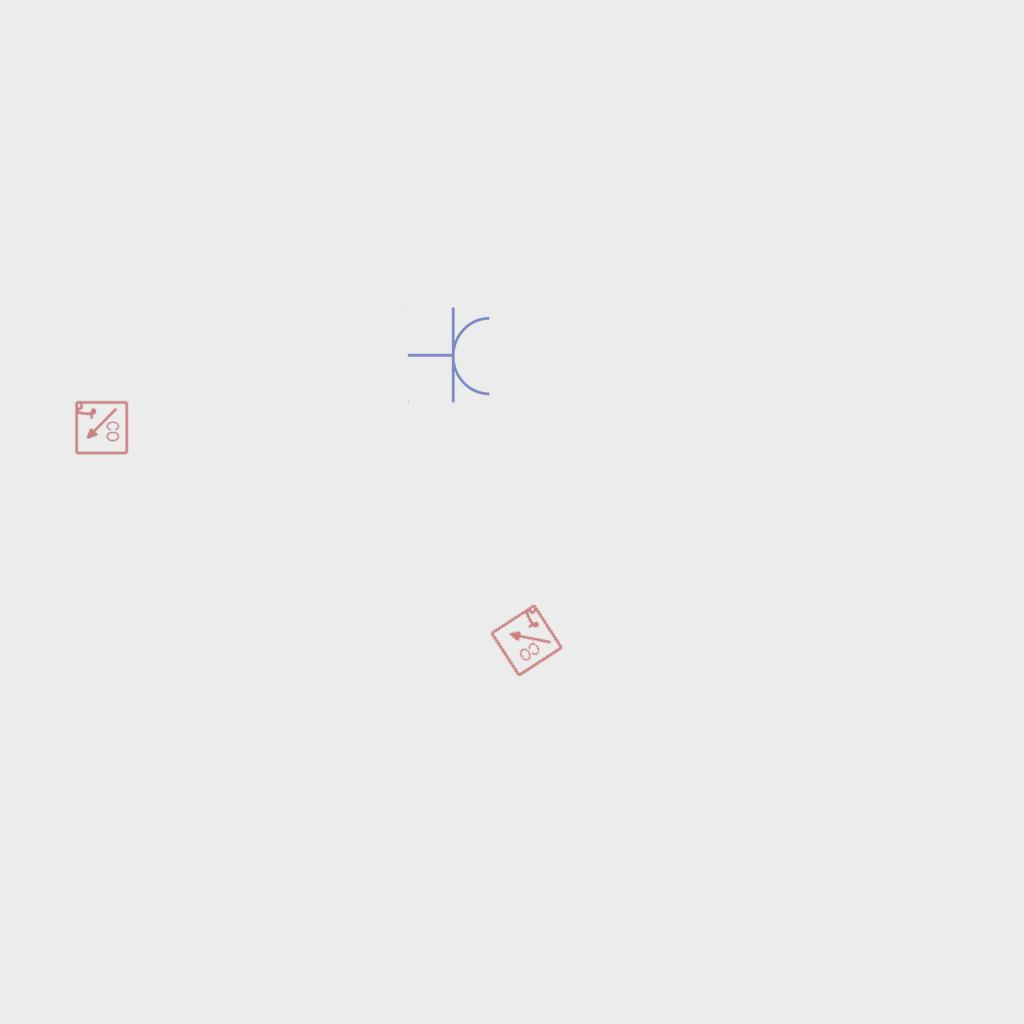ROA_Rauchmelder_optisch_mit_Signalgeber_(Sockelsirene): (487, 601, 565, 679), (73, 400, 129, 456)
Schukosteckdose_einfach: (407, 306, 494, 406)
